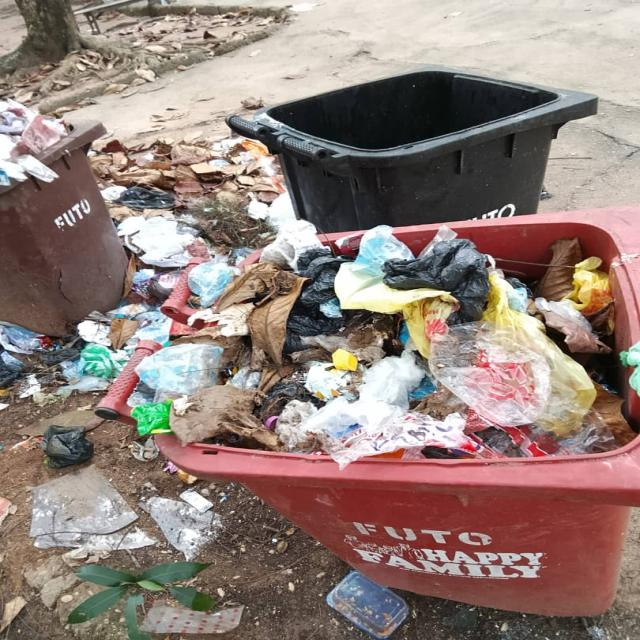empty: (249, 66, 595, 155)
full: (160, 222, 636, 486)
overflowing: (4, 98, 112, 400)
